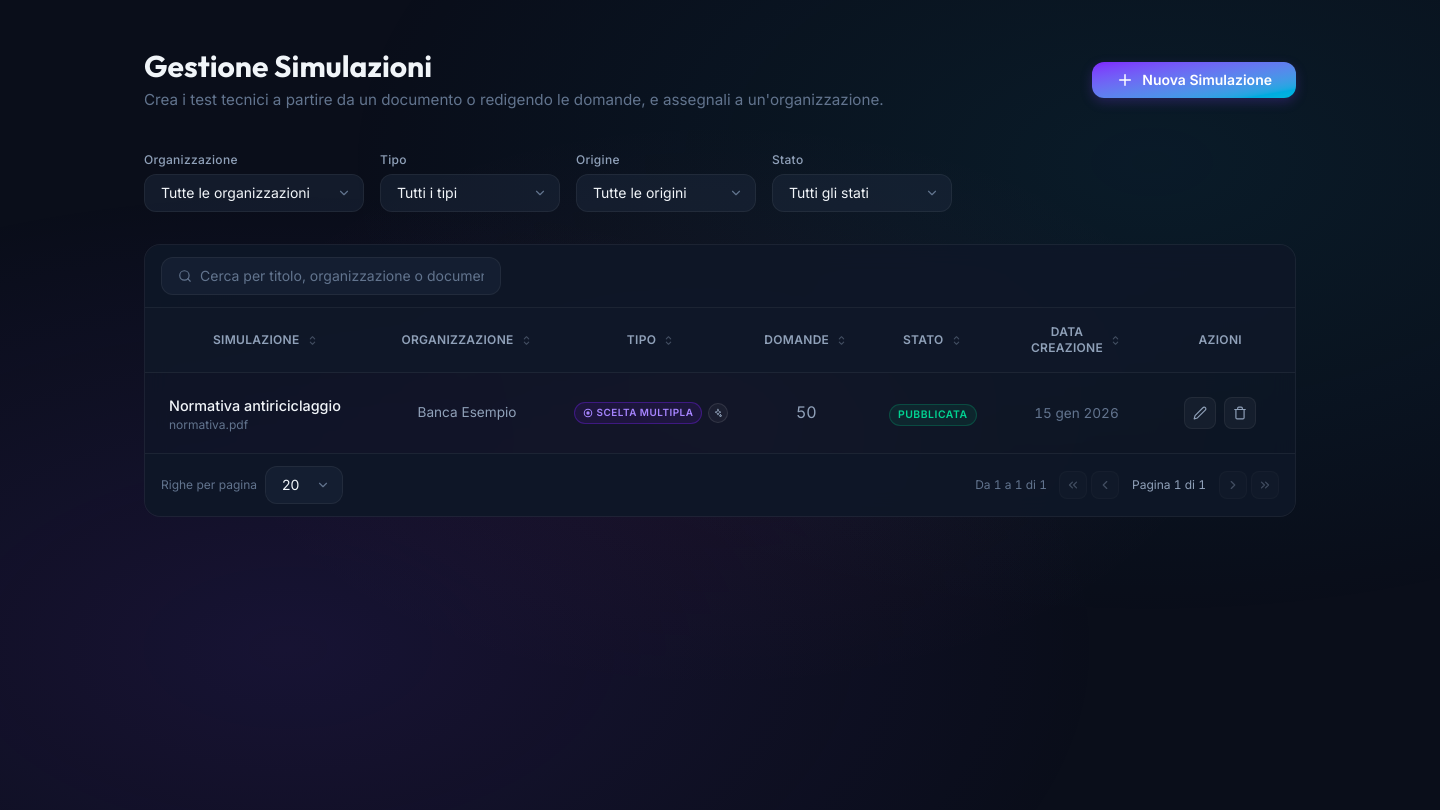
it: eliminazione › mostra il rifiuto del server senza chiudere la conferma
Click the button named "Elimina Normativa antiriciclaggio": (1240,413) [1224,397,1256,429]
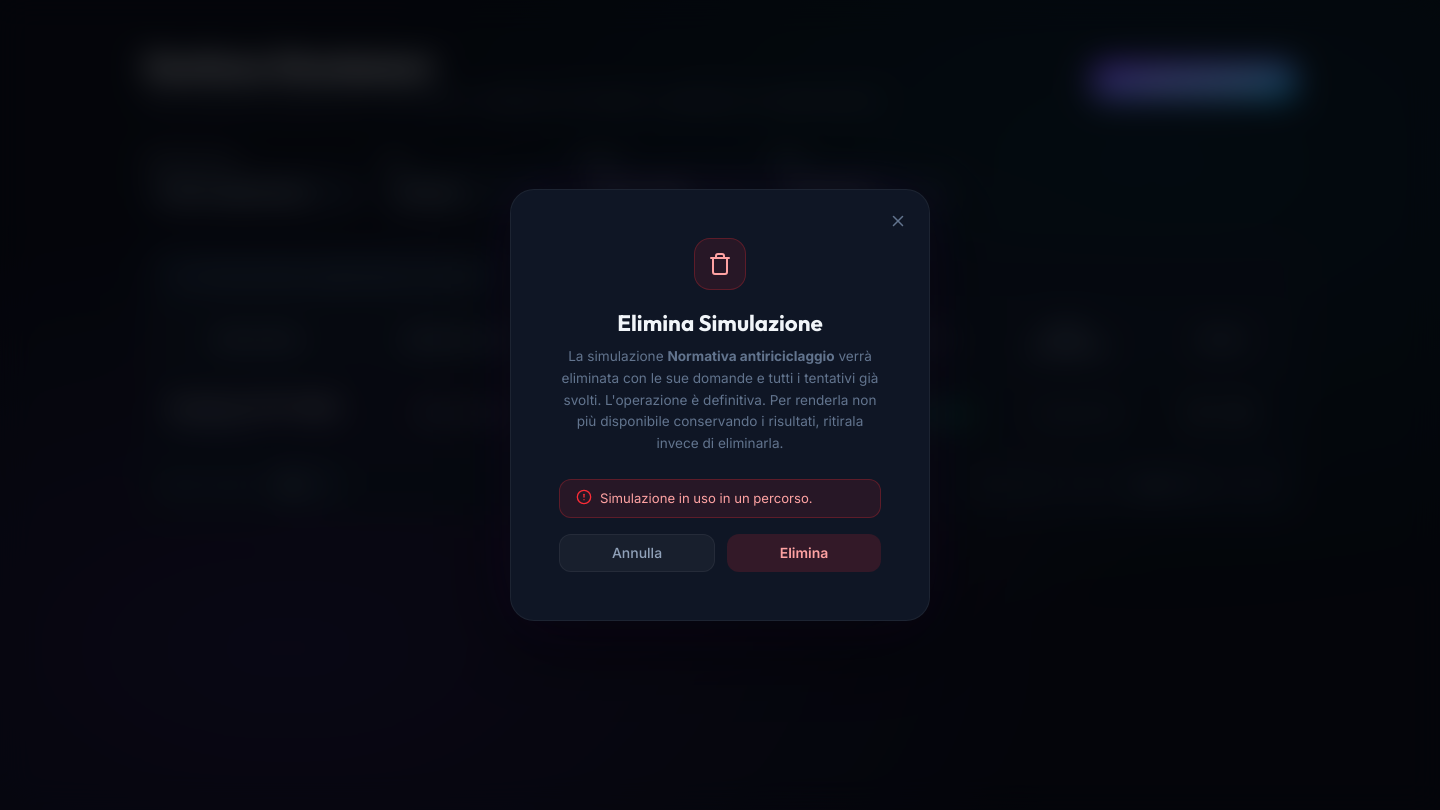
Now the text "Simulazione in uso in un percorso." is shown, box [600,488,813,509]
